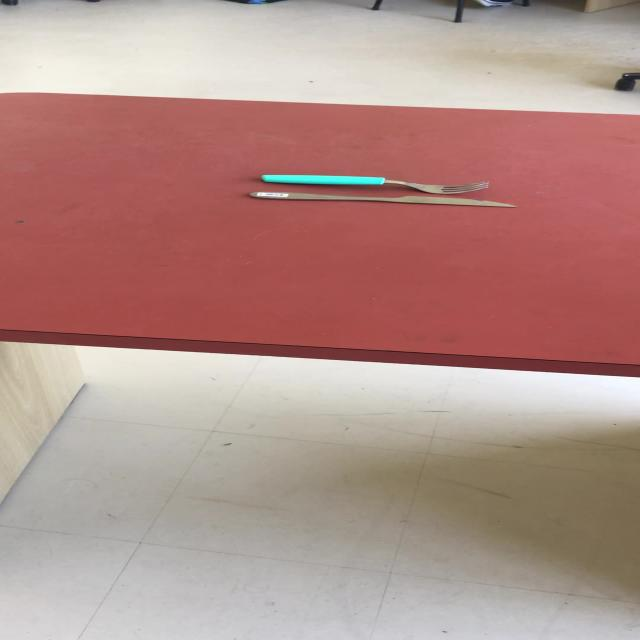fork: (258, 173, 490, 194), (259, 173, 489, 194)
knife fork: (247, 190, 516, 207)
